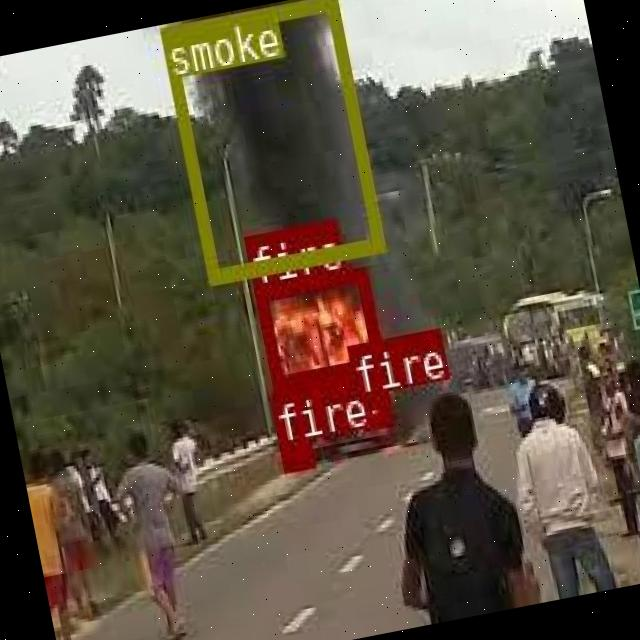fire: (252, 266, 384, 388), (354, 390, 392, 428), (277, 438, 311, 468)
smoke: (157, 0, 382, 281)
